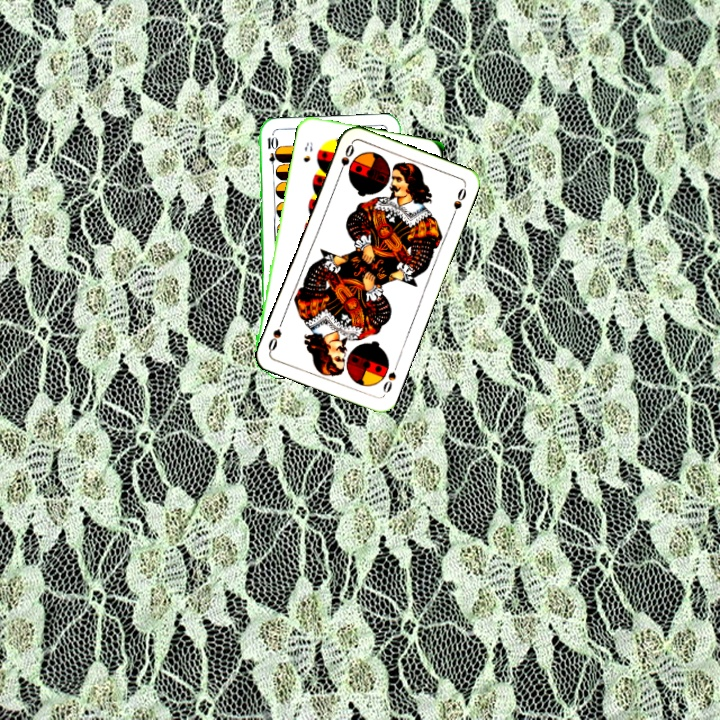E10: (263, 133, 278, 173)
S8: (299, 137, 316, 165)
SO: (334, 139, 357, 179), (379, 359, 401, 398)
